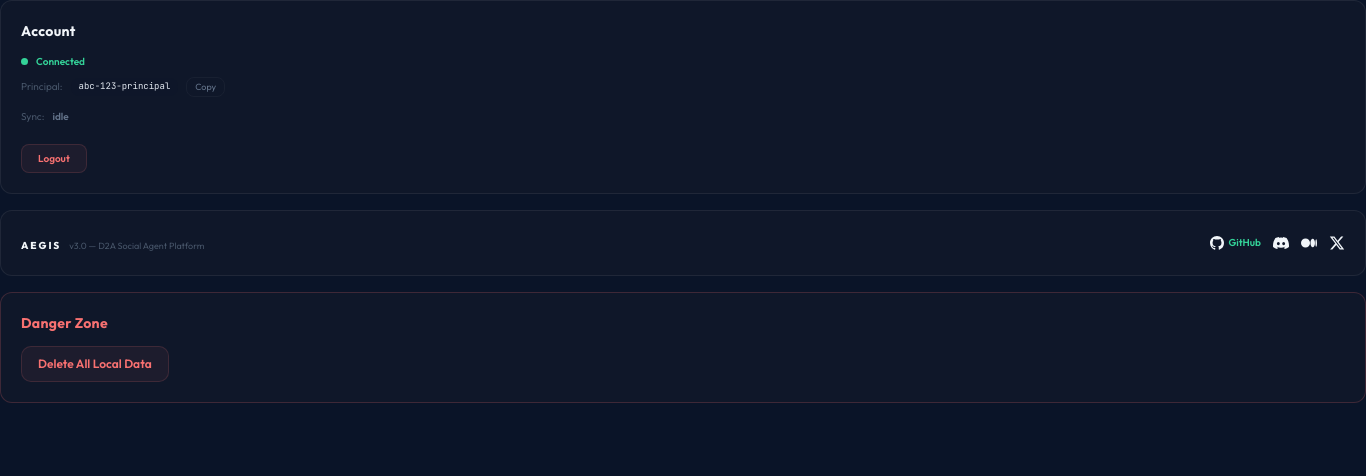
Test: AccountSection — delete local data › shows Deleting... state on confirm button
Click the button "Delete All Local Data" at (95, 364), box x1=21 y1=346 x2=169 y2=382
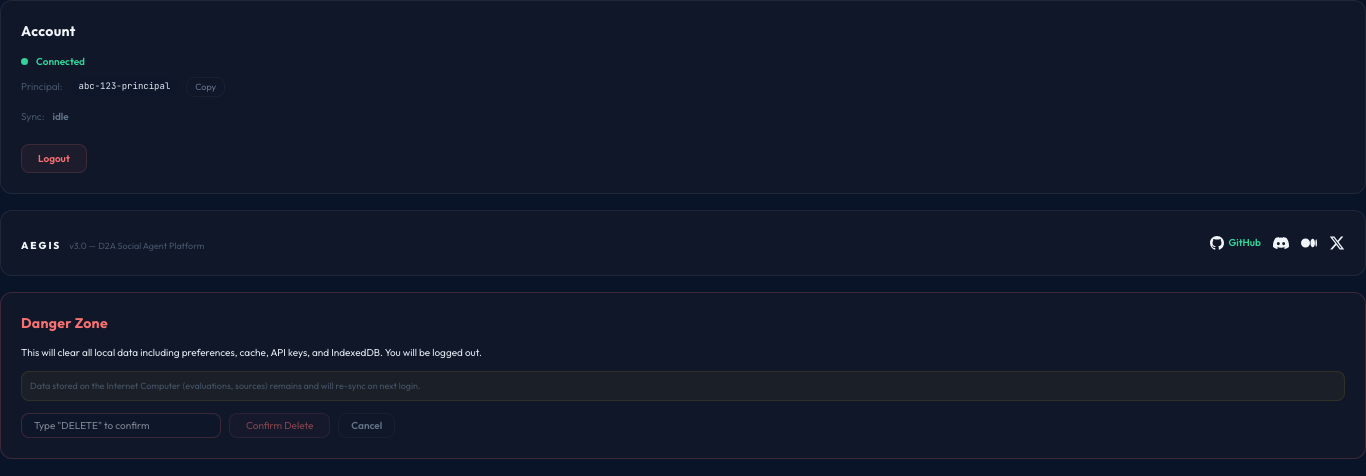
Type "DELETE" into the field with test id "aegis-settings-delete-input" at (121, 425), box x1=21 y1=412 x2=221 y2=438
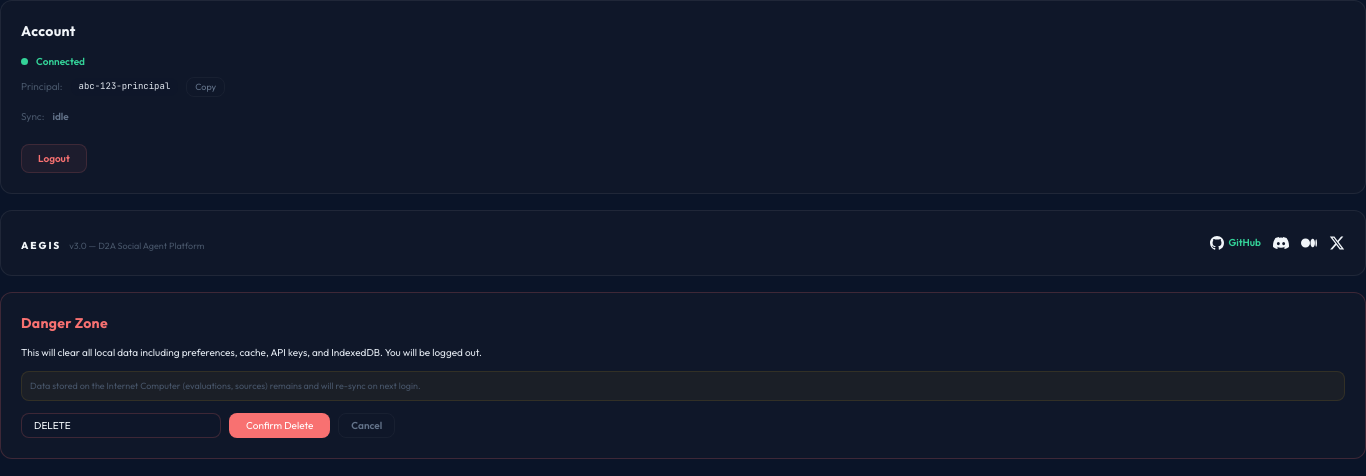
Click the button with test id "aegis-settings-delete-confirm" at (280, 425), box x1=229 y1=412 x2=330 y2=438
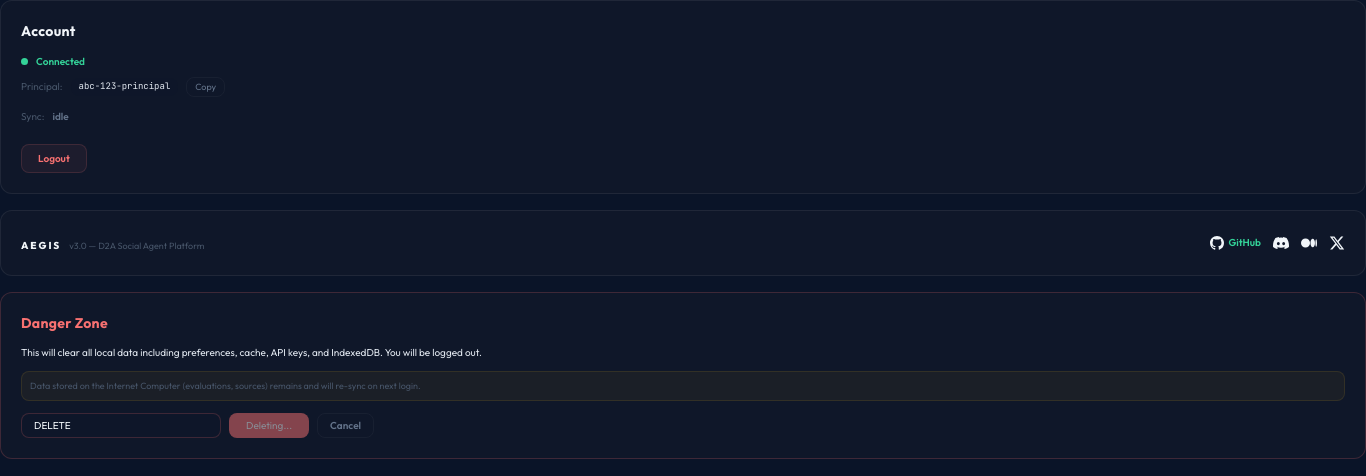
Expected: the button "Deleting..." is shown, x1=229 y1=412 x2=309 y2=438
